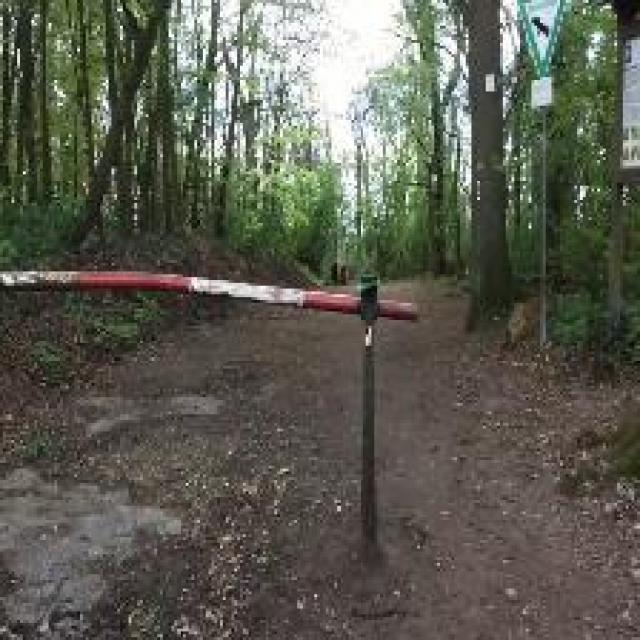other: (2, 243, 432, 350)
